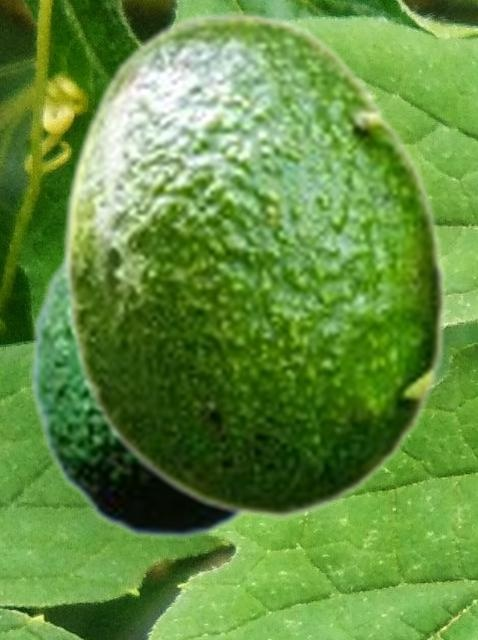avocado: (59, 11, 448, 519), (29, 244, 249, 540)
